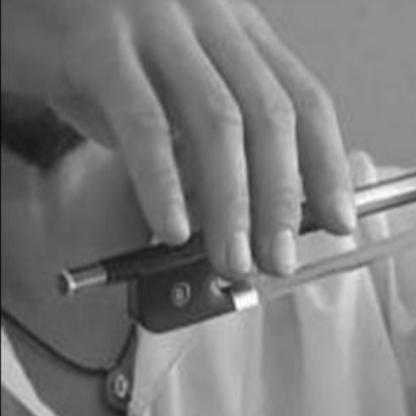bad: (84, 3, 378, 293)
